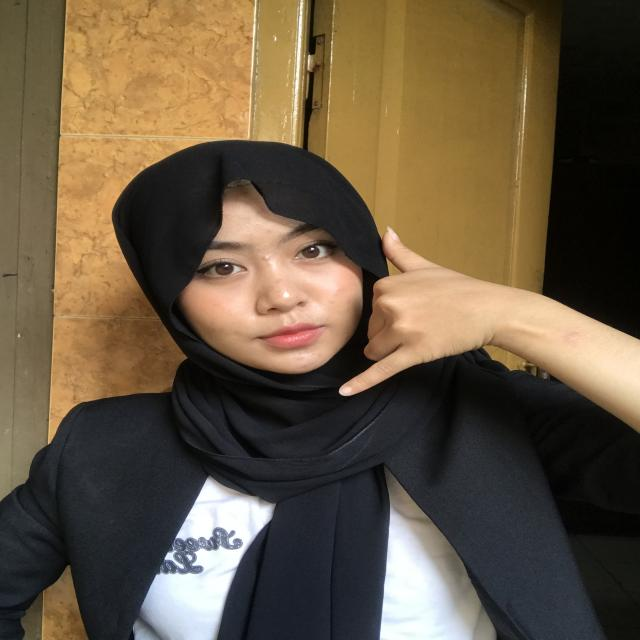telpon: (309, 218, 532, 406)
